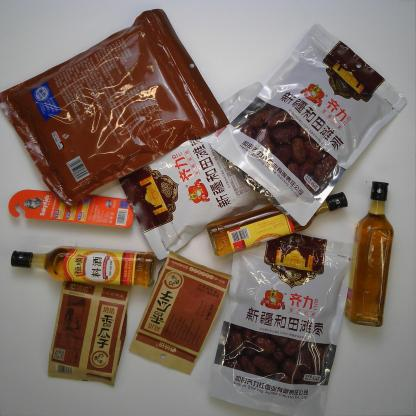Dried Food: (0, 7, 232, 209), (209, 21, 408, 230), (116, 79, 283, 262), (203, 228, 355, 416), (128, 248, 233, 378), (45, 278, 135, 386)
Personal Hygiene: (7, 188, 137, 232)
Seasoner: (210, 192, 349, 259), (343, 178, 396, 329), (8, 245, 159, 292)
